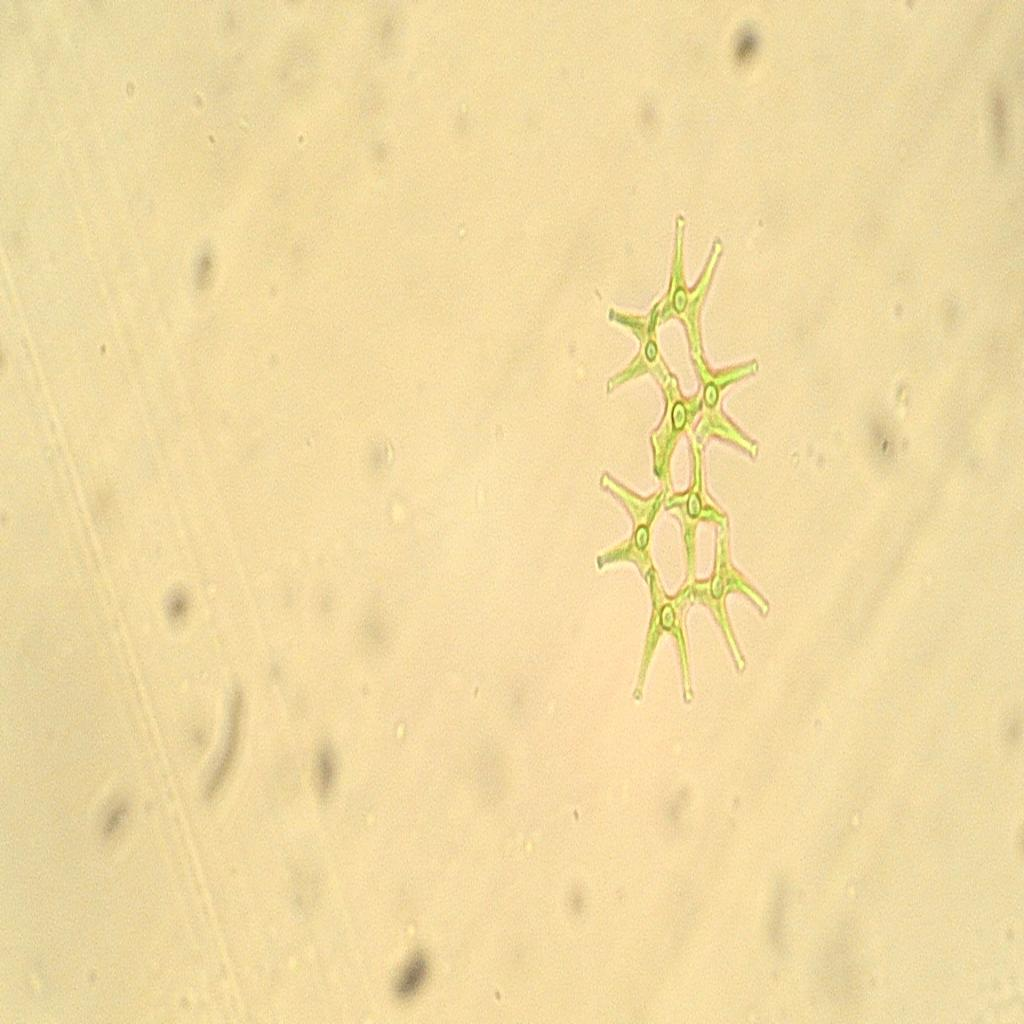Pediastrum_CFI: (576, 184, 779, 733)
